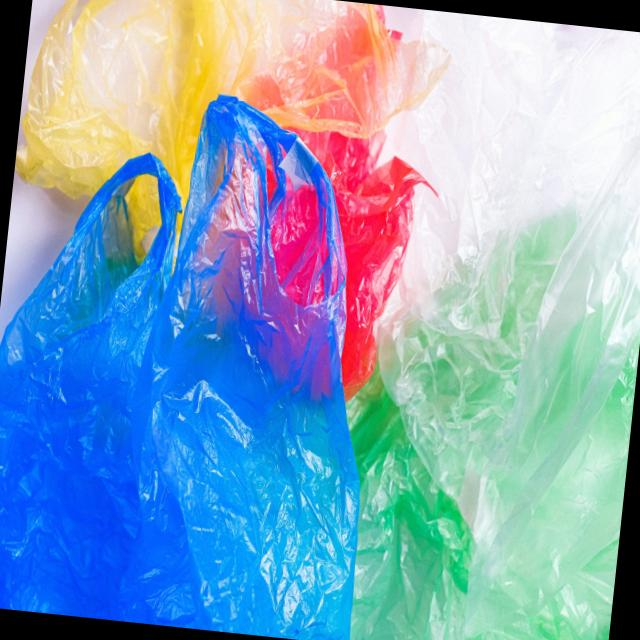plastic_bag: (0, 91, 374, 637)
